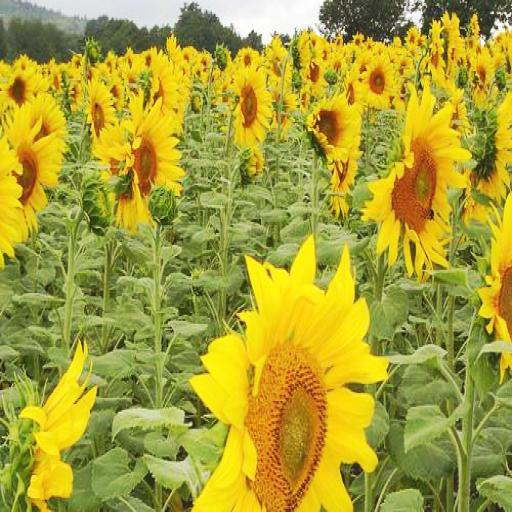sunflower: (199, 237, 387, 512), (366, 85, 463, 279), (22, 337, 100, 512), (125, 93, 183, 222), (5, 113, 58, 236), (306, 102, 362, 159), (230, 73, 270, 148), (327, 142, 358, 216), (86, 82, 117, 145), (360, 54, 398, 102)
